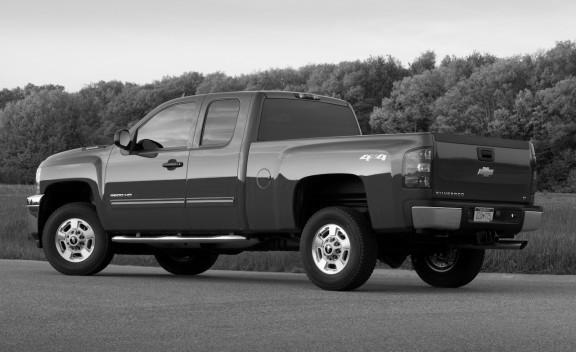car: (26, 90, 542, 298)
